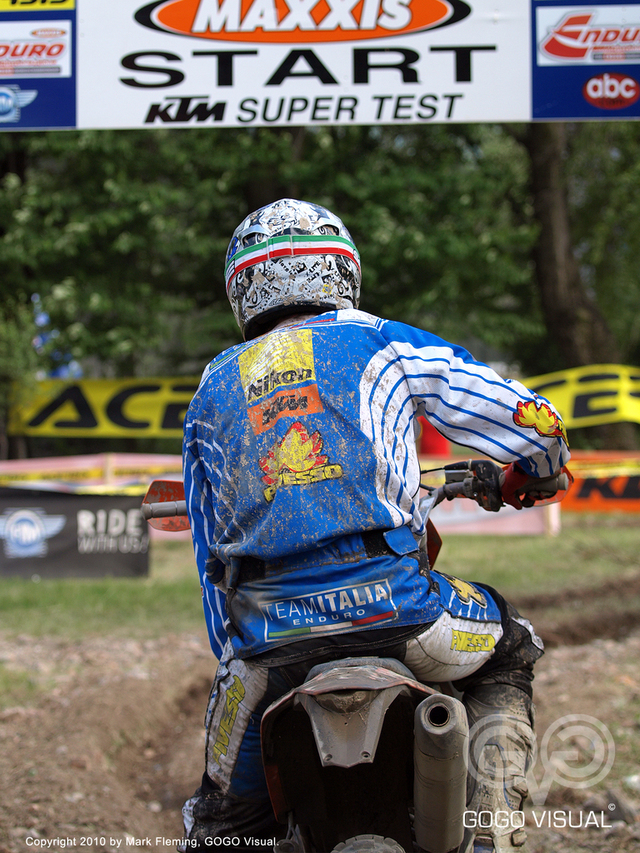helmet: (222, 207, 367, 305)
